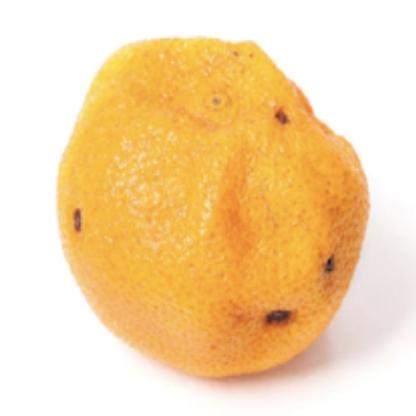rotten: (57, 36, 372, 385)
